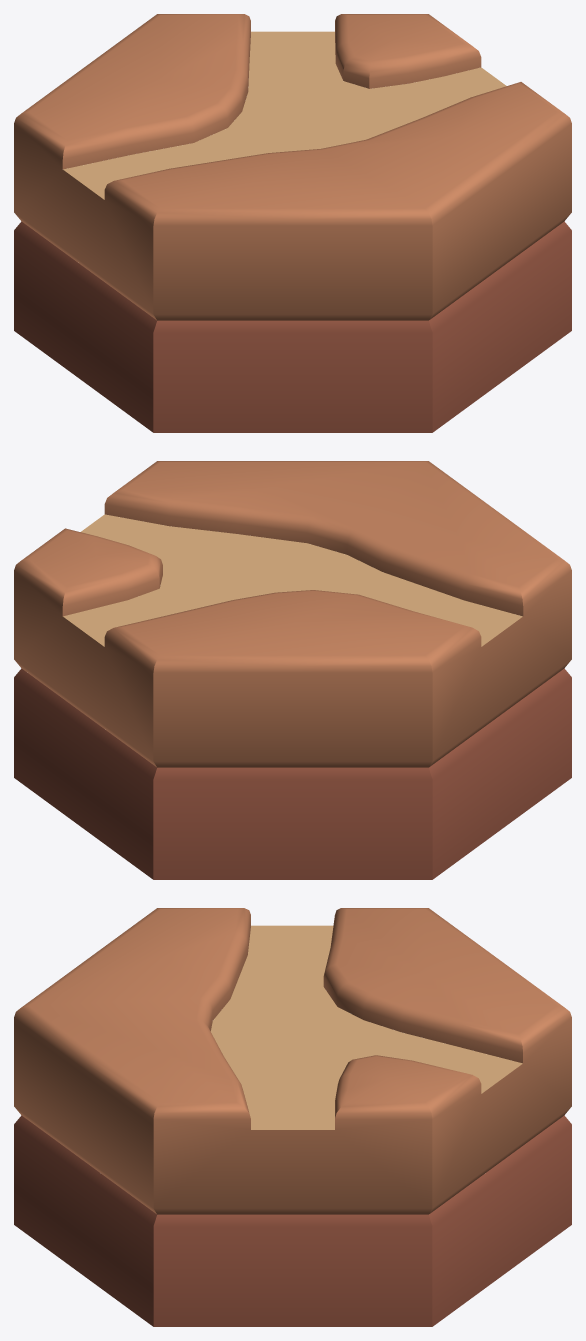
File: hex_rock_roadF_detail.glb
3 renders of one model, top to bottom at view 1: azimuth 30°, elevation 25°; view 2: azimuth 150°, elevation 25°; view 3: azimuth 270°, elevation 25°, orthographic.
Visible parts, largest first — view 1: hex_rock_roadF_detail; view 2: hex_rock_roadF_detail; view 3: hex_rock_roadF_detail.
Boxes of the visible parts, x1,y1,x2,y2 form: hex_rock_roadF_detail: [14, 14, 571, 432]; hex_rock_roadF_detail: [14, 461, 571, 879]; hex_rock_roadF_detail: [14, 908, 571, 1326].
Bounding box in the file's own units: 2 × 1 × 2.31.
